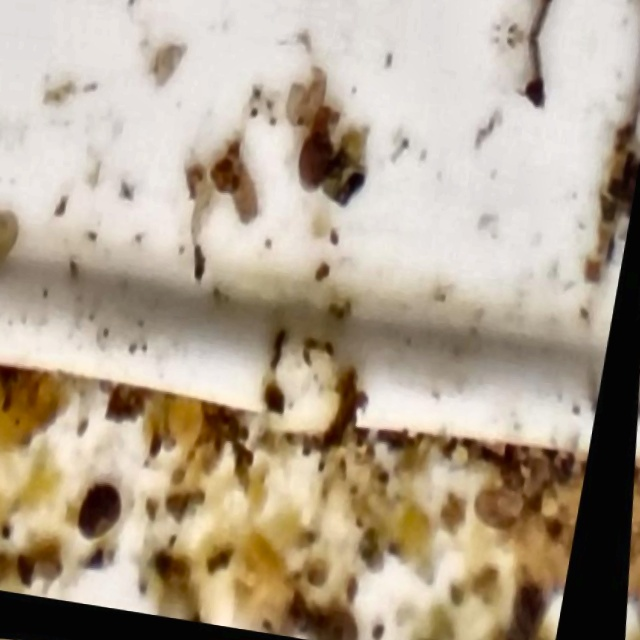varroa: (289, 127, 340, 213), (80, 478, 133, 551)
